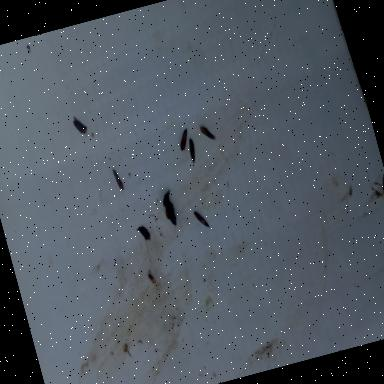pbw: (193, 209, 210, 231), (176, 129, 192, 152), (72, 115, 88, 136), (136, 224, 152, 244), (186, 138, 198, 164), (112, 168, 125, 192), (200, 124, 216, 143), (160, 190, 174, 208), (378, 173, 384, 195)
